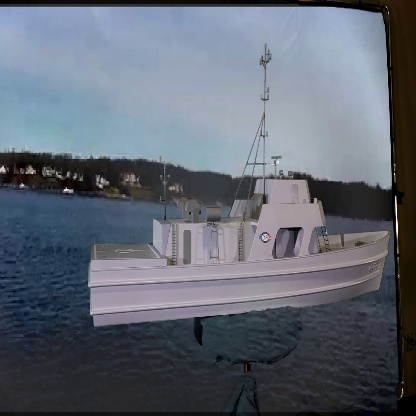YP689: (83, 42, 392, 328)
